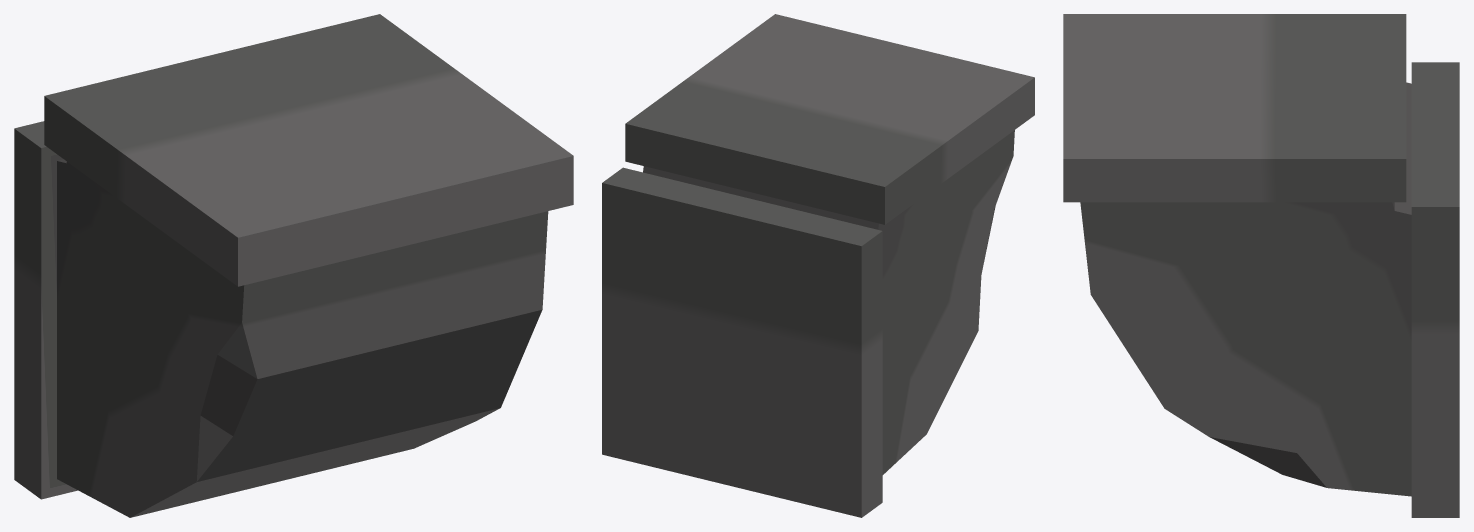
Rendered from SM_Prop_Air_Duct_Corner_01.fbx.
The picture shows the model from 3 angles, left to right: view 1: azimuth 30°, elevation 25°; view 2: azimuth 150°, elevation 25°; view 3: azimuth 270°, elevation 25°; orthographic projection. The views are drawn at different scales.
Parts seen in each view (by area): view 1: SM_Prop_Air_Duct_Corner_01; view 2: SM_Prop_Air_Duct_Corner_01; view 3: SM_Prop_Air_Duct_Corner_01.
Part boxes in pixels (<box>): SM_Prop_Air_Duct_Corner_01: <box>14,14,573,517</box>; SM_Prop_Air_Duct_Corner_01: <box>602,14,1034,517</box>; SM_Prop_Air_Duct_Corner_01: <box>1063,14,1459,517</box>.
Bounding box in the file's own units: 89.17 × 103 × 103.
